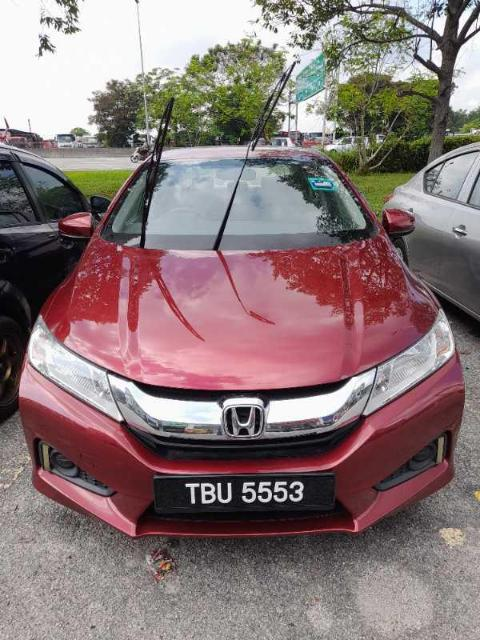License_Plate: (153, 471, 338, 515)
car: (15, 138, 469, 539)
